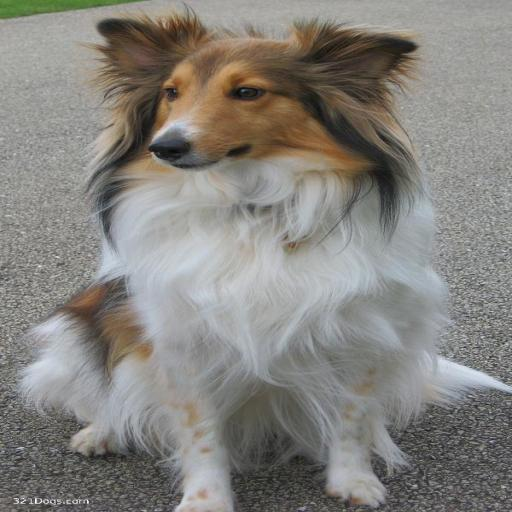dog_face: (99, 22, 422, 188)
